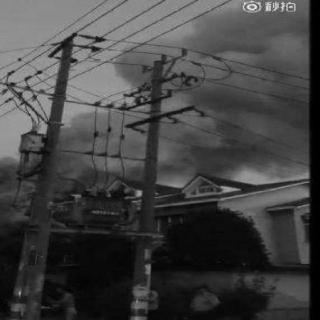Smoke: (37, 13, 313, 166)
